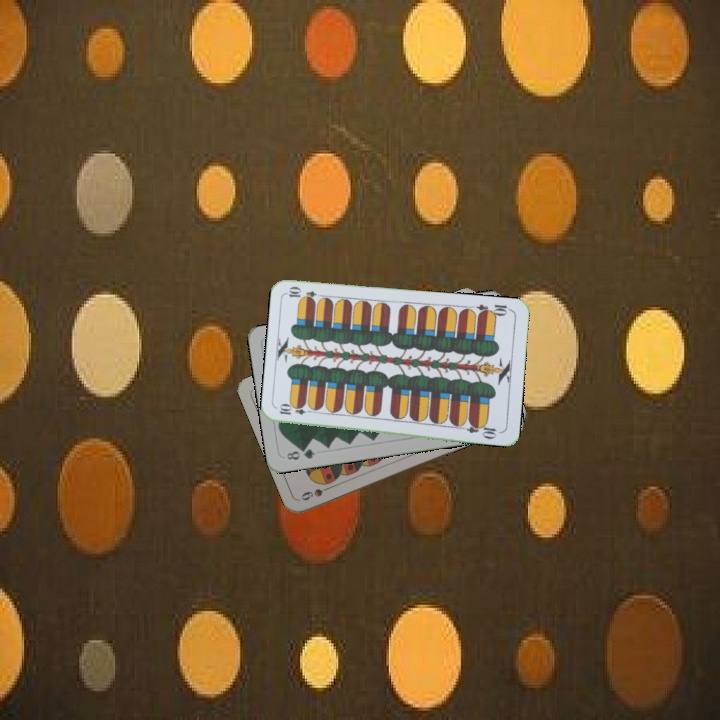E10: (473, 300, 514, 319), (275, 402, 316, 418)
G8: (282, 444, 318, 463)
S9: (297, 481, 336, 503)
